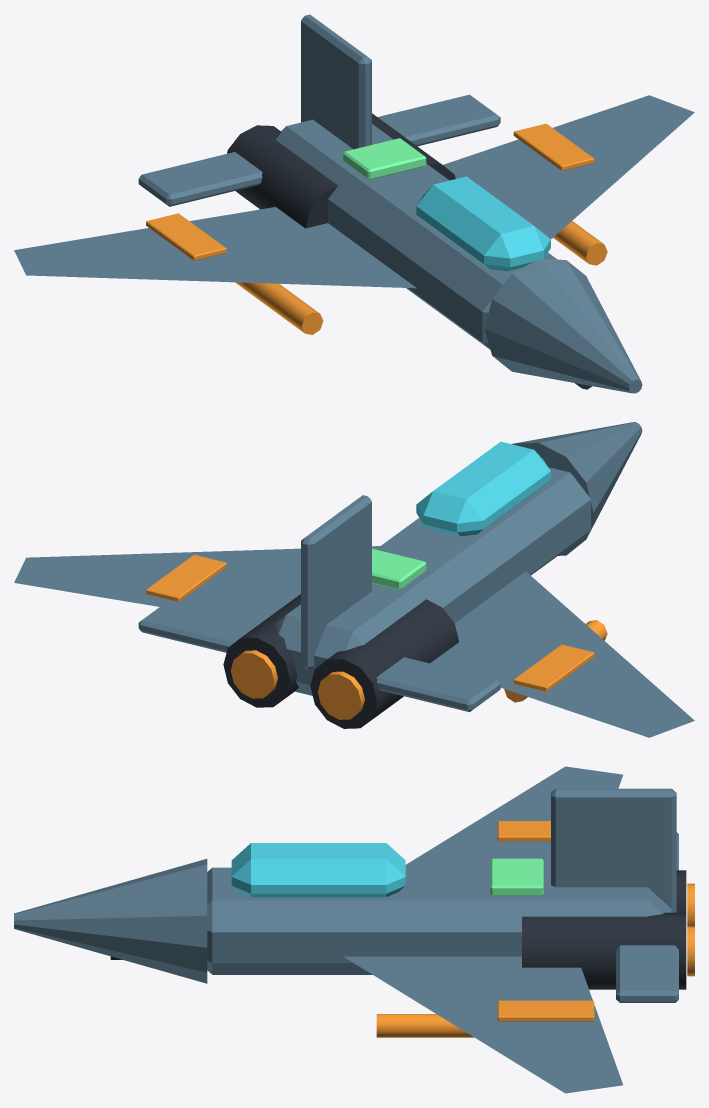
File: boss-jet.glb
3 renders of one model, top to bottom at view 1: azimuth 30°, elevation 25°; view 2: azimuth 150°, elevation 25°; view 3: azimuth 270°, elevation 25°, orthographic.
Parts seen in each view (by area): view 1: Swept wing, Fuselage, Swept wing.001, Tapered nose, Canopy, Vertical tail, Engine, Tailplane, Tailplane.001, Core, Underwing missile, Wing marking.001 (+3 smaller); view 2: Fuselage, Swept wing, Swept wing.001, Vertical tail, Canopy, Engine, Tapered nose, Tailplane, Tailplane.001, Engine.001, Wing marking, Wing marking.001 (+3 smaller); view 3: Fuselage, Swept wing.001, Tapered nose, Vertical tail, Canopy, Engine.001, Swept wing, Tailplane.001, Wing marking.001, Core, Underwing missile.001, Wing marking.
Boxes of the visible parts, <box> form: Swept wing: <box>14,207,416,288</box>; Fuselage: <box>275,119,557,349</box>; Swept wing.001: <box>443,95,694,238</box>; Tapered nose: <box>485,259,642,393</box>; Canopy: <box>416,176,550,271</box>; Vertical tail: <box>301,14,371,149</box>; Engine: <box>227,125,337,228</box>; Tailplane: <box>138,152,262,206</box>; Tailplane.001: <box>377,94,500,146</box>; Core: <box>343,138,426,179</box>; Underwing missile: <box>235,282,323,334</box>; Wing marking.001: <box>513,123,594,170</box>; Fuselage: <box>276,467,590,695</box>; Swept wing: <box>430,571,694,737</box>; Swept wing.001: <box>14,546,379,622</box>; Vertical tail: <box>301,495,371,669</box>; Canopy: <box>416,441,550,536</box>; Engine: <box>310,599,458,728</box>; Tapered nose: <box>512,422,642,555</box>; Tailplane: <box>376,657,500,712</box>; Tailplane.001: <box>138,600,261,652</box>; Engine.001: <box>223,594,300,707</box>; Wing marking: <box>513,644,594,691</box>; Wing marking.001: <box>146,554,226,601</box>; Fuselage: <box>207,867,671,974</box>; Swept wing.001: <box>344,956,622,1093</box>; Tapered nose: <box>14,859,207,983</box>; Vertical tail: <box>551,788,676,912</box>; Canopy: <box>231,843,405,897</box>; Engine.001: <box>522,912,686,989</box>; Swept wing: <box>405,766,622,867</box>; Tailplane.001: <box>616,945,678,1002</box>; Wing marking.001: <box>497,1000,594,1021</box>; Core: <box>490,858,543,895</box>; Underwing missile.001: <box>376,1014,473,1037</box>; Wing marking: <box>497,821,550,841</box>.
Size of the model in its own units: 8 by 2.15 by 7.04.
